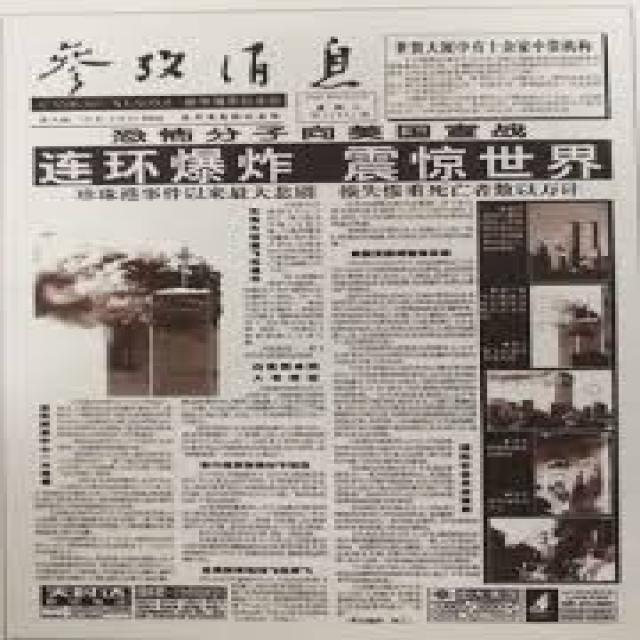paper: (13, 0, 612, 640)
